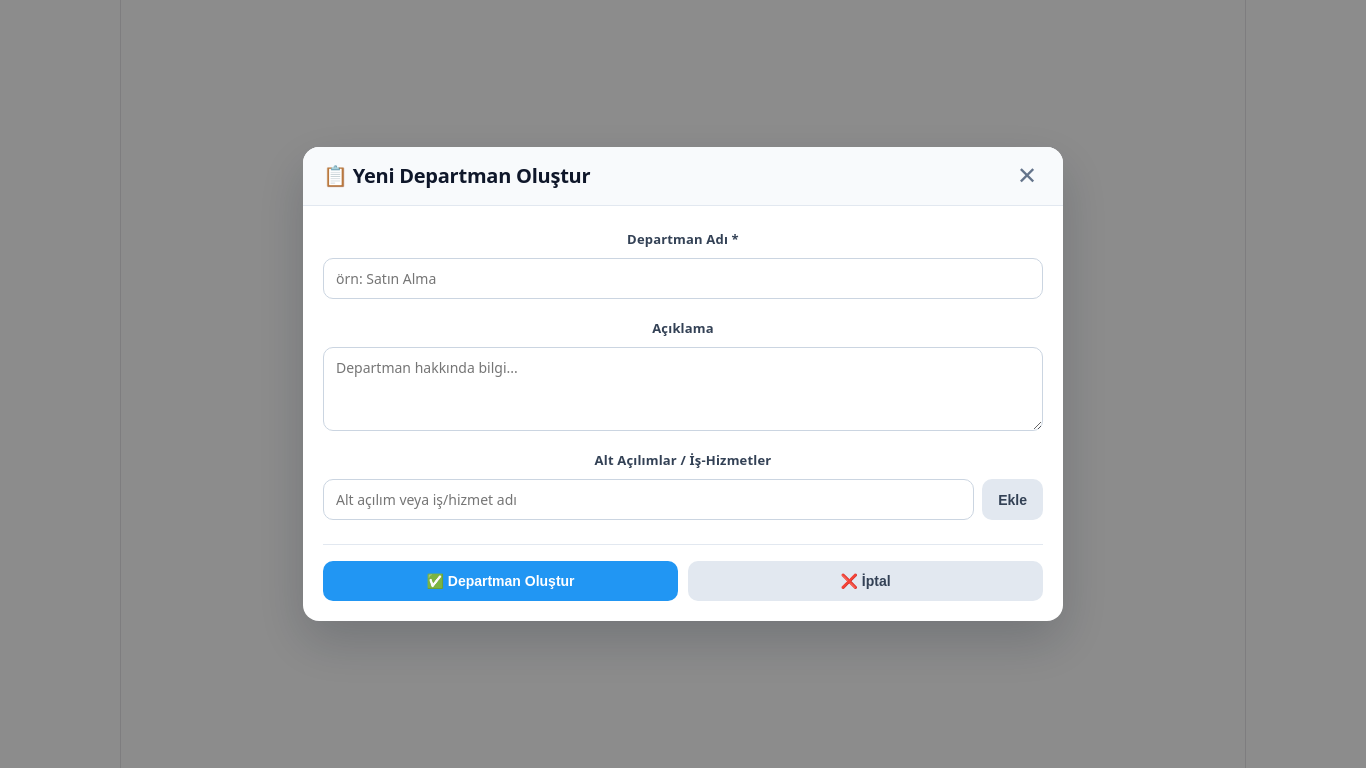
Test: Admin modal workflows › DepartmentCreateModal hata aldiginda mesaji gosterir
This screenshot has width=1366, height=768.
Step 1. Type "Mükerrer Departman" into the field with placeholder "örn: Satın Alma" → (683, 278), box x1=323 y1=258 x2=1043 y2=299
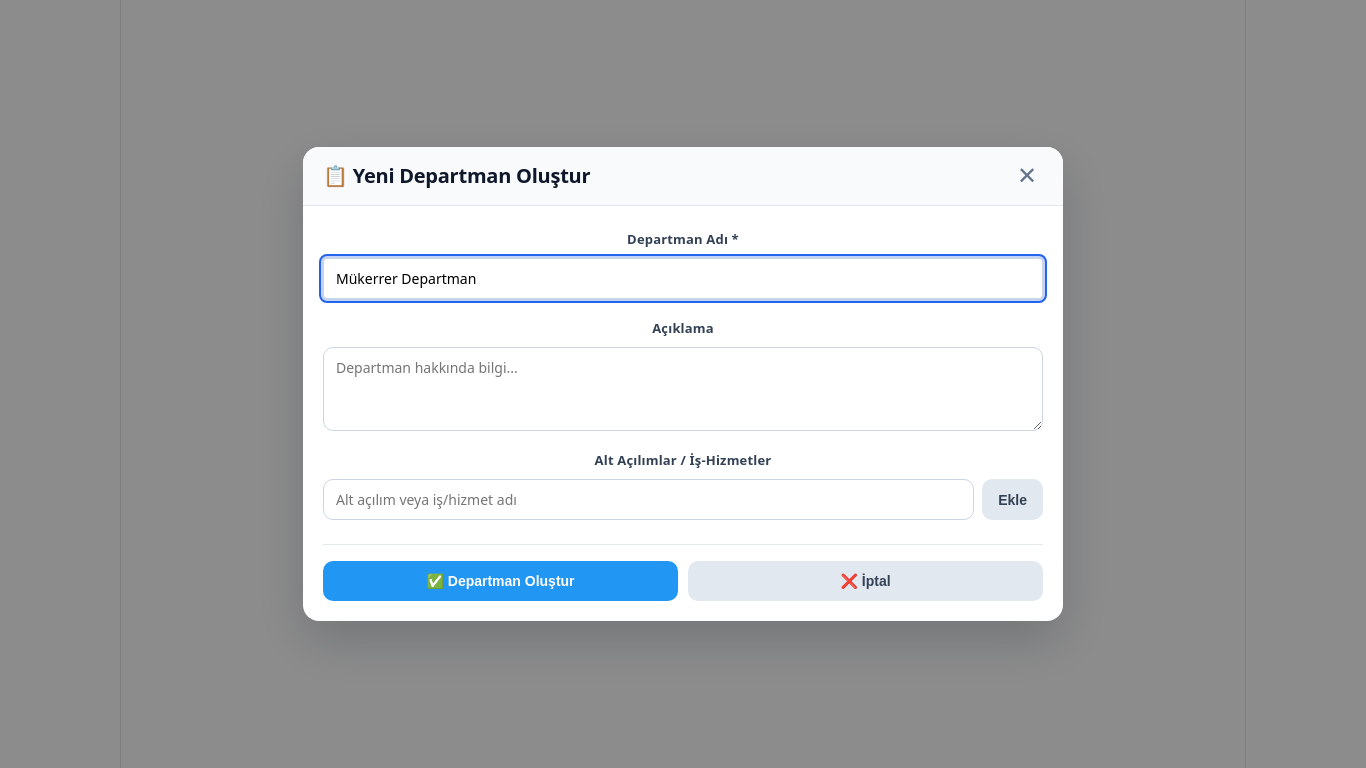
Step 2. Click the button "✅ Departman Oluştur" → (500, 581), box x1=323 y1=561 x2=678 y2=601
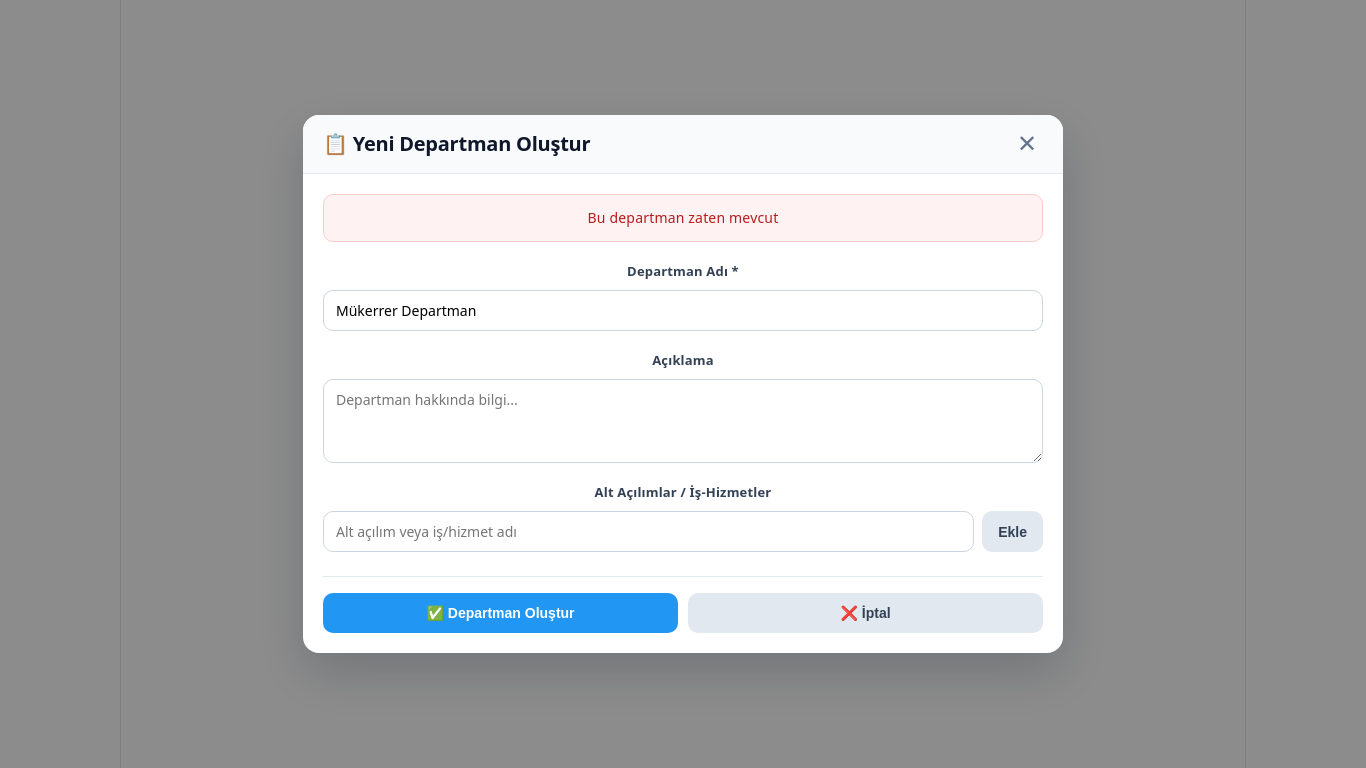
Expected: the text "Bu departman zaten mevcut" is shown, x1=323 y1=194 x2=1043 y2=242
